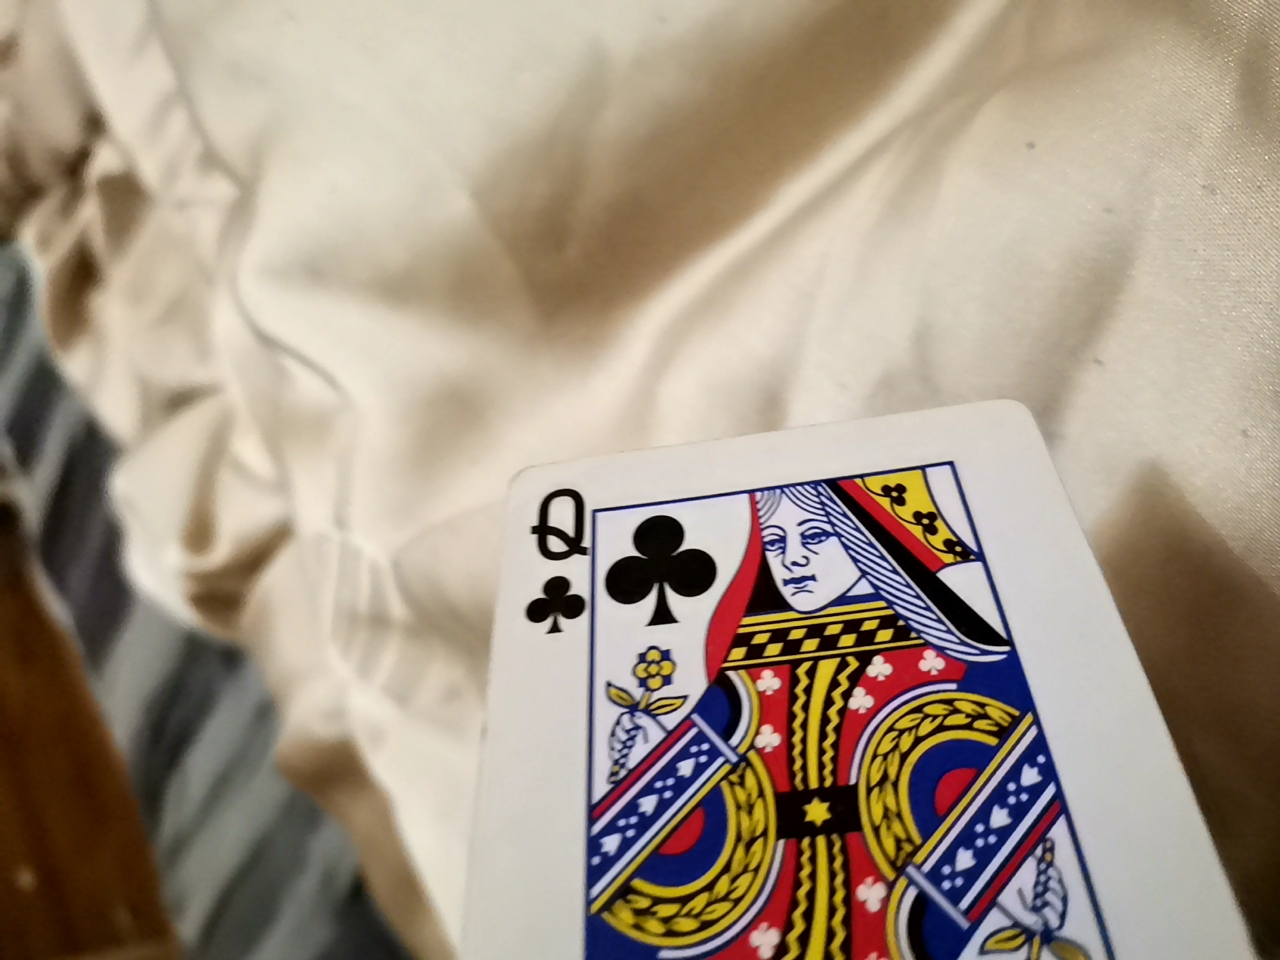mh q: (438, 407, 1255, 956)
